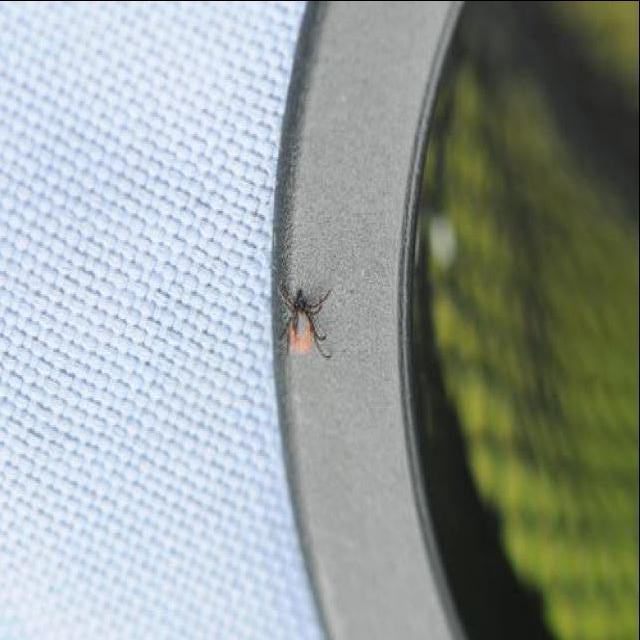Ixodes Ricinus-F: (279, 283, 333, 364)
